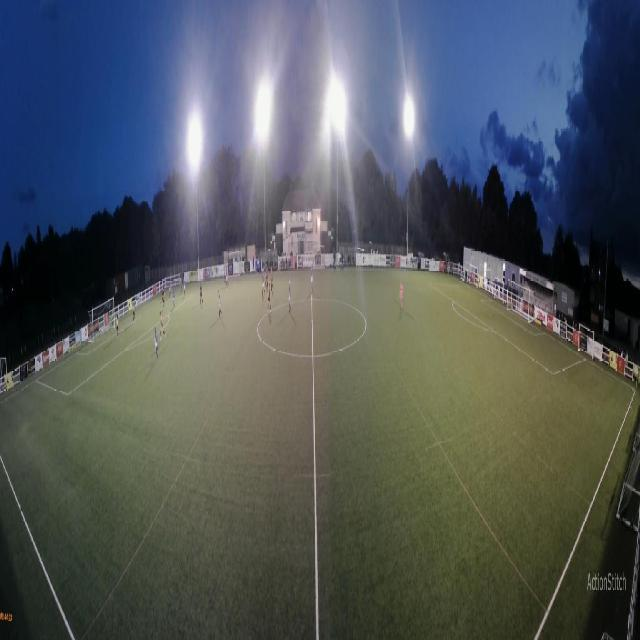ball: (171, 294, 172, 298)
player: (159, 311, 166, 341), (153, 327, 159, 359), (267, 281, 271, 313), (399, 280, 403, 310), (218, 289, 222, 318), (262, 271, 266, 297), (288, 279, 291, 313), (310, 265, 313, 295), (199, 283, 203, 305), (271, 266, 274, 292), (225, 269, 229, 288), (116, 315, 119, 339), (133, 302, 136, 322), (224, 269, 227, 288), (183, 279, 186, 297), (266, 262, 268, 288), (180, 277, 183, 294), (265, 263, 267, 285), (173, 287, 175, 308), (111, 311, 113, 331), (163, 289, 165, 309), (169, 280, 171, 298), (162, 287, 164, 302)
